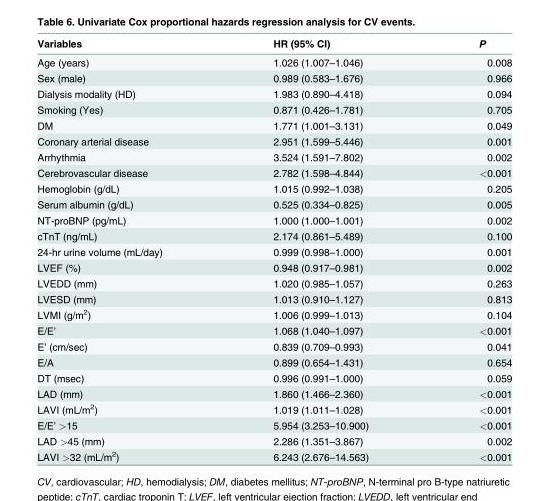table: (36, 36, 511, 462)
table column: (217, 36, 423, 462), (36, 36, 217, 462), (423, 36, 511, 462)
table column header: (36, 36, 511, 52)
table row: (36, 52, 511, 69), (36, 305, 511, 322), (36, 400, 511, 417), (36, 36, 511, 52), (36, 69, 511, 85), (36, 85, 511, 101), (36, 101, 511, 117), (36, 132, 511, 148), (36, 148, 511, 164), (36, 164, 511, 180), (36, 180, 511, 196), (36, 211, 511, 227), (36, 227, 511, 243), (36, 243, 511, 259), (36, 259, 511, 275), (36, 322, 511, 338), (36, 353, 511, 369), (36, 369, 511, 385), (36, 432, 511, 448), (36, 117, 511, 132), (36, 196, 511, 211), (36, 275, 511, 290), (36, 290, 511, 305), (36, 338, 511, 353), (36, 385, 511, 400), (36, 417, 511, 432), (36, 448, 511, 462)
